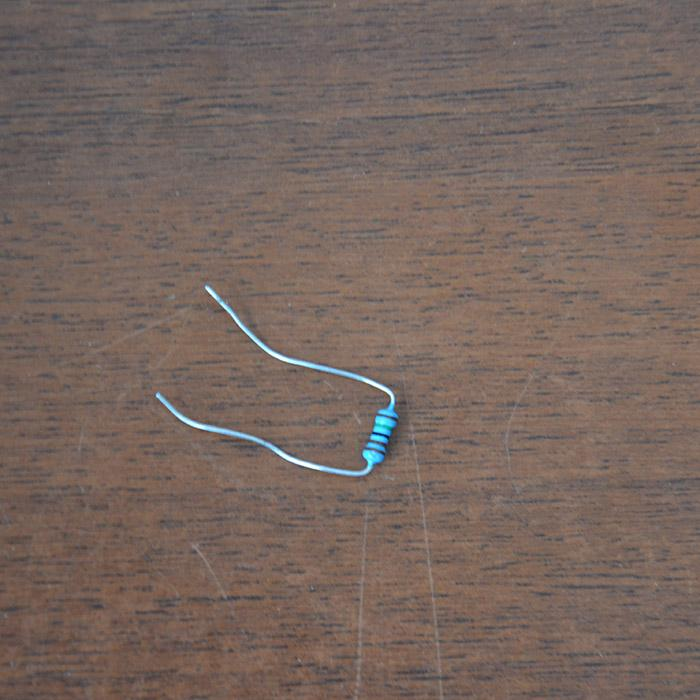resistor: (363, 407, 400, 463)
